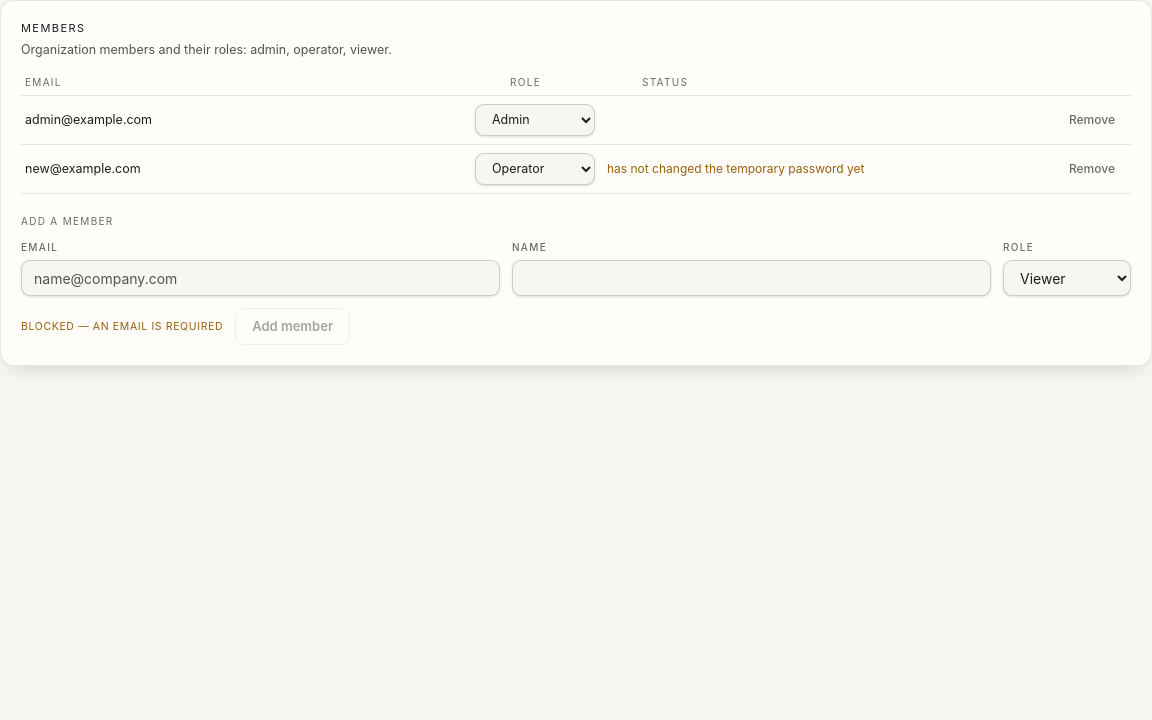
MembersPanel › shows the temporary password once, and says it will not be shown again
Expected: the text "admin@example.com" is shown, x1=25 y1=112 x2=152 y2=127
Type "x@example.com" into the field labelled "Email".
click(260, 278); type("x@example.com")  # box x1=21 y1=260 x2=500 y2=296
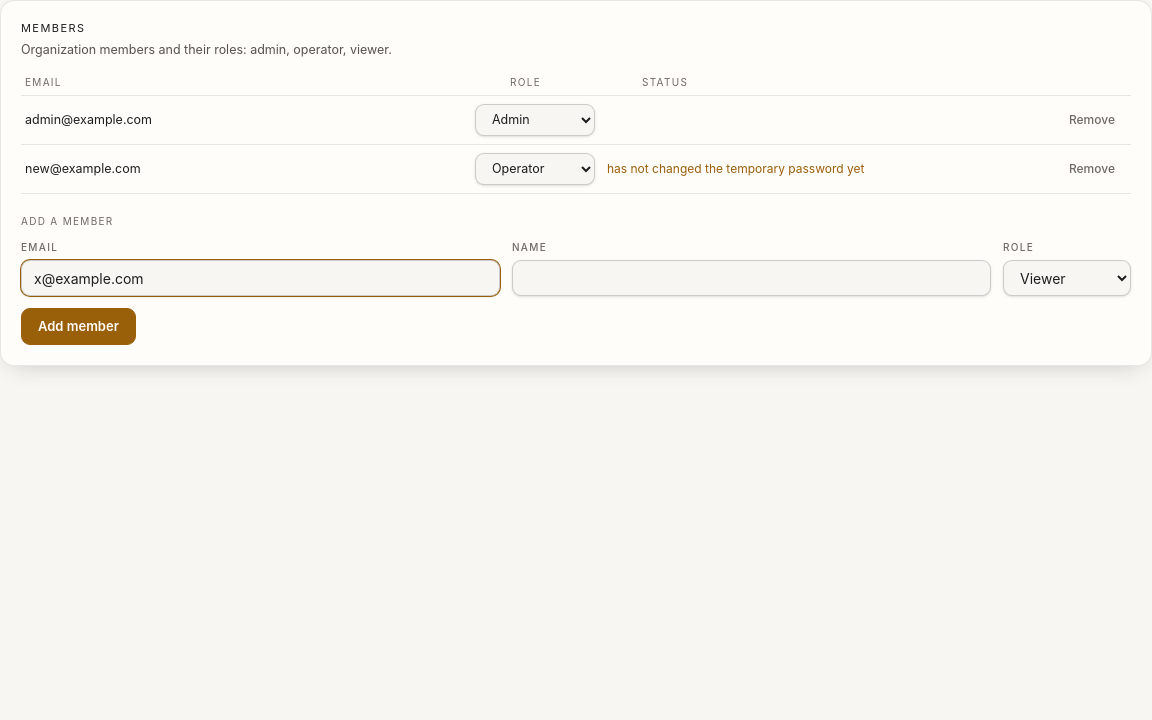
Type "X" into the field labelled "Name".
click(752, 278); type("X")  # box x1=512 y1=260 x2=991 y2=296
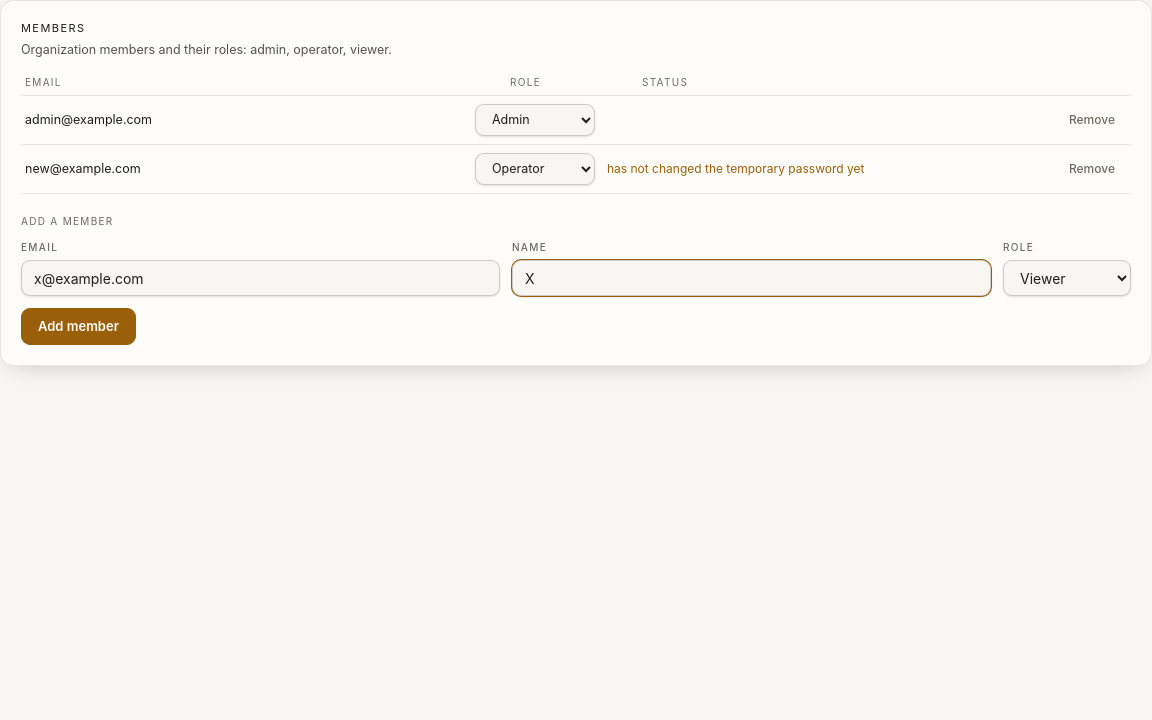
Click the button "Add member".
click(78, 327)  # box x1=21 y1=308 x2=136 y2=345
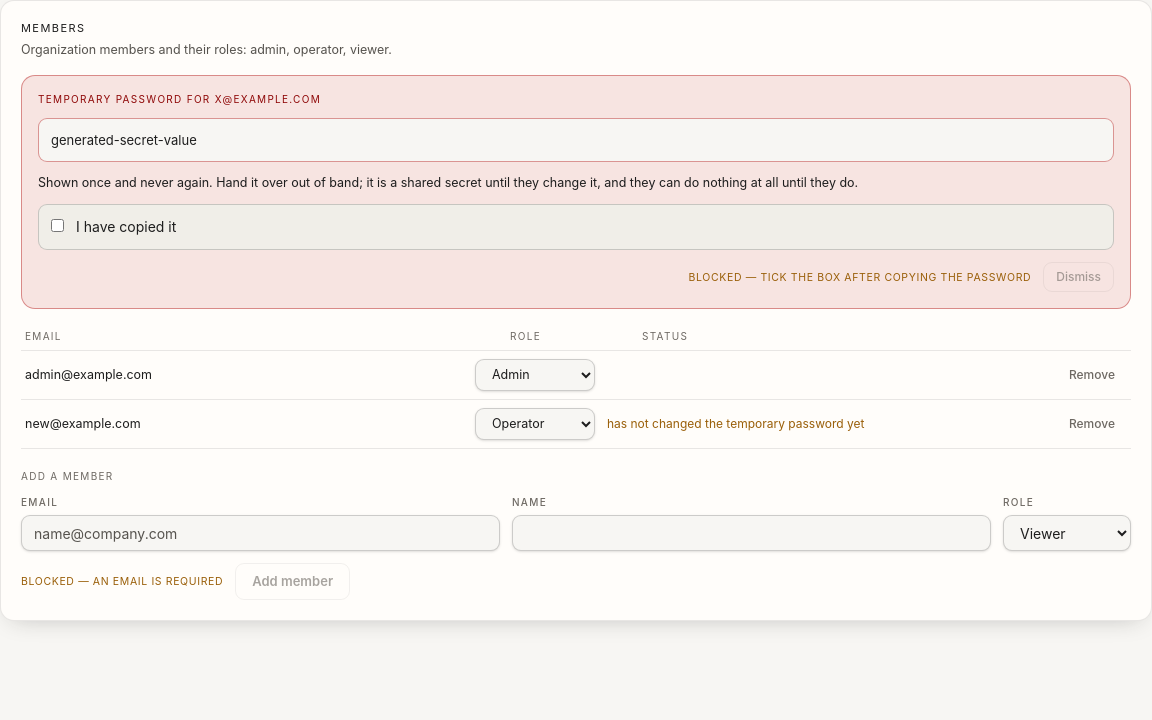
Expected: the text "generated-secret-value" is shown, x1=38 y1=118 x2=1114 y2=162
Expected: the button "Dismiss" is disabled, x1=1043 y1=262 x2=1114 y2=292
Click the checkbox labelled "I have copied it".
click(58, 226)  # box x1=51 y1=219 x2=64 y2=232
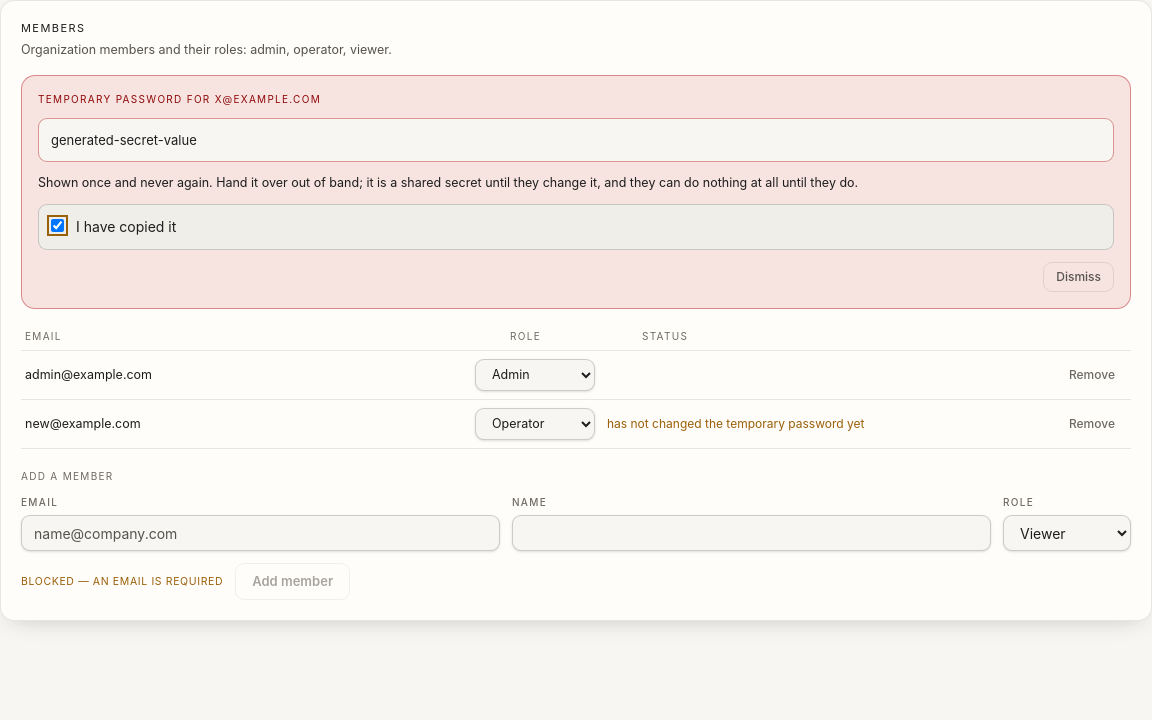
Expected: the button "Dismiss" is enabled
Click the button "Dismiss".
click(1079, 277)  # box x1=1043 y1=262 x2=1114 y2=292
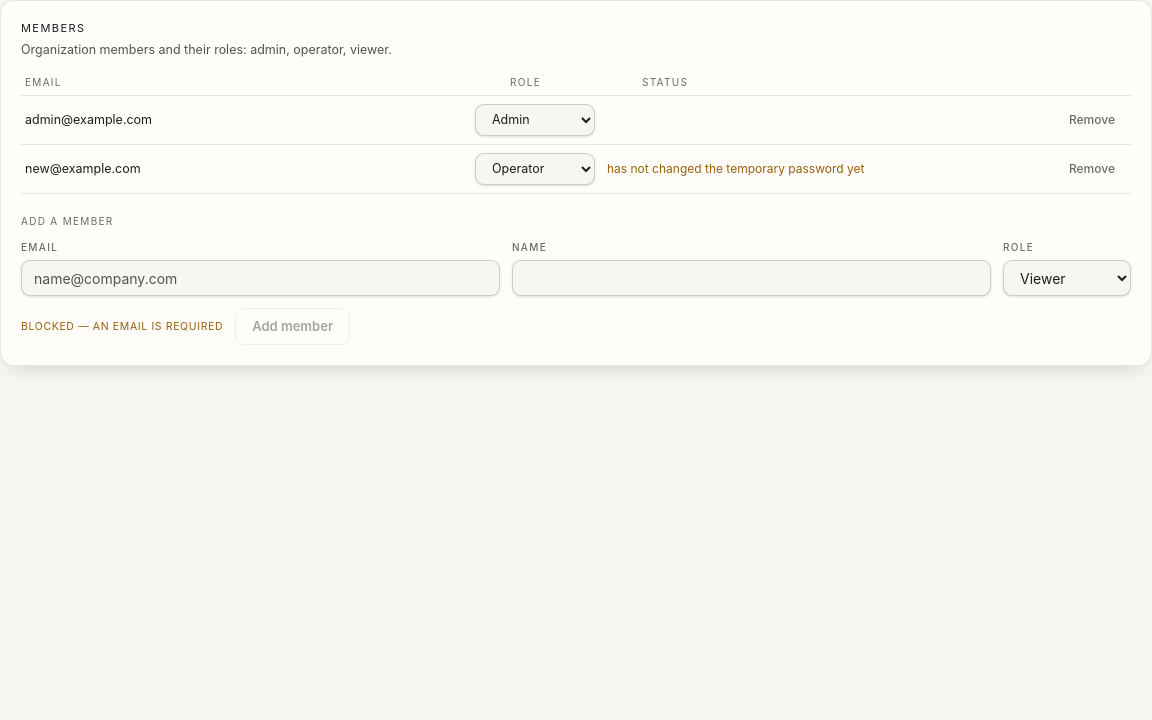
Expected: the text "generated-secret-value" is gone
